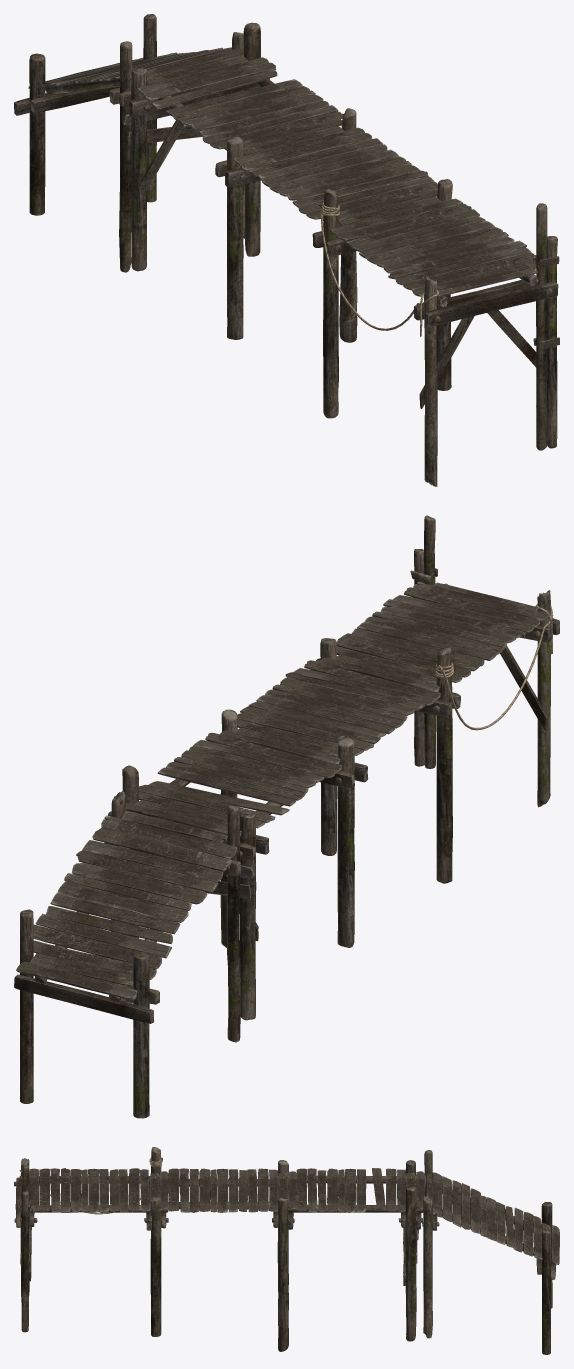
File: trapiche.glb
3 renders of one model, top to bottom at view 1: azimuth 30°, elevation 25°; view 2: azimuth 150°, elevation 25°; view 3: azimuth 270°, elevation 25°, orthographic. The views are drawn at different scales.
Parts seen in each view (by area): view 1: trapiche; view 2: trapiche; view 3: trapiche.
Part boxes in pixels (bbox=[...]): trapiche: bbox=[14, 14, 559, 486]; trapiche: bbox=[14, 515, 559, 1118]; trapiche: bbox=[14, 1147, 559, 1354].
Size of the model in its own units: 2.56 by 4.69 by 12.4.
2 materials, 2 textured.
